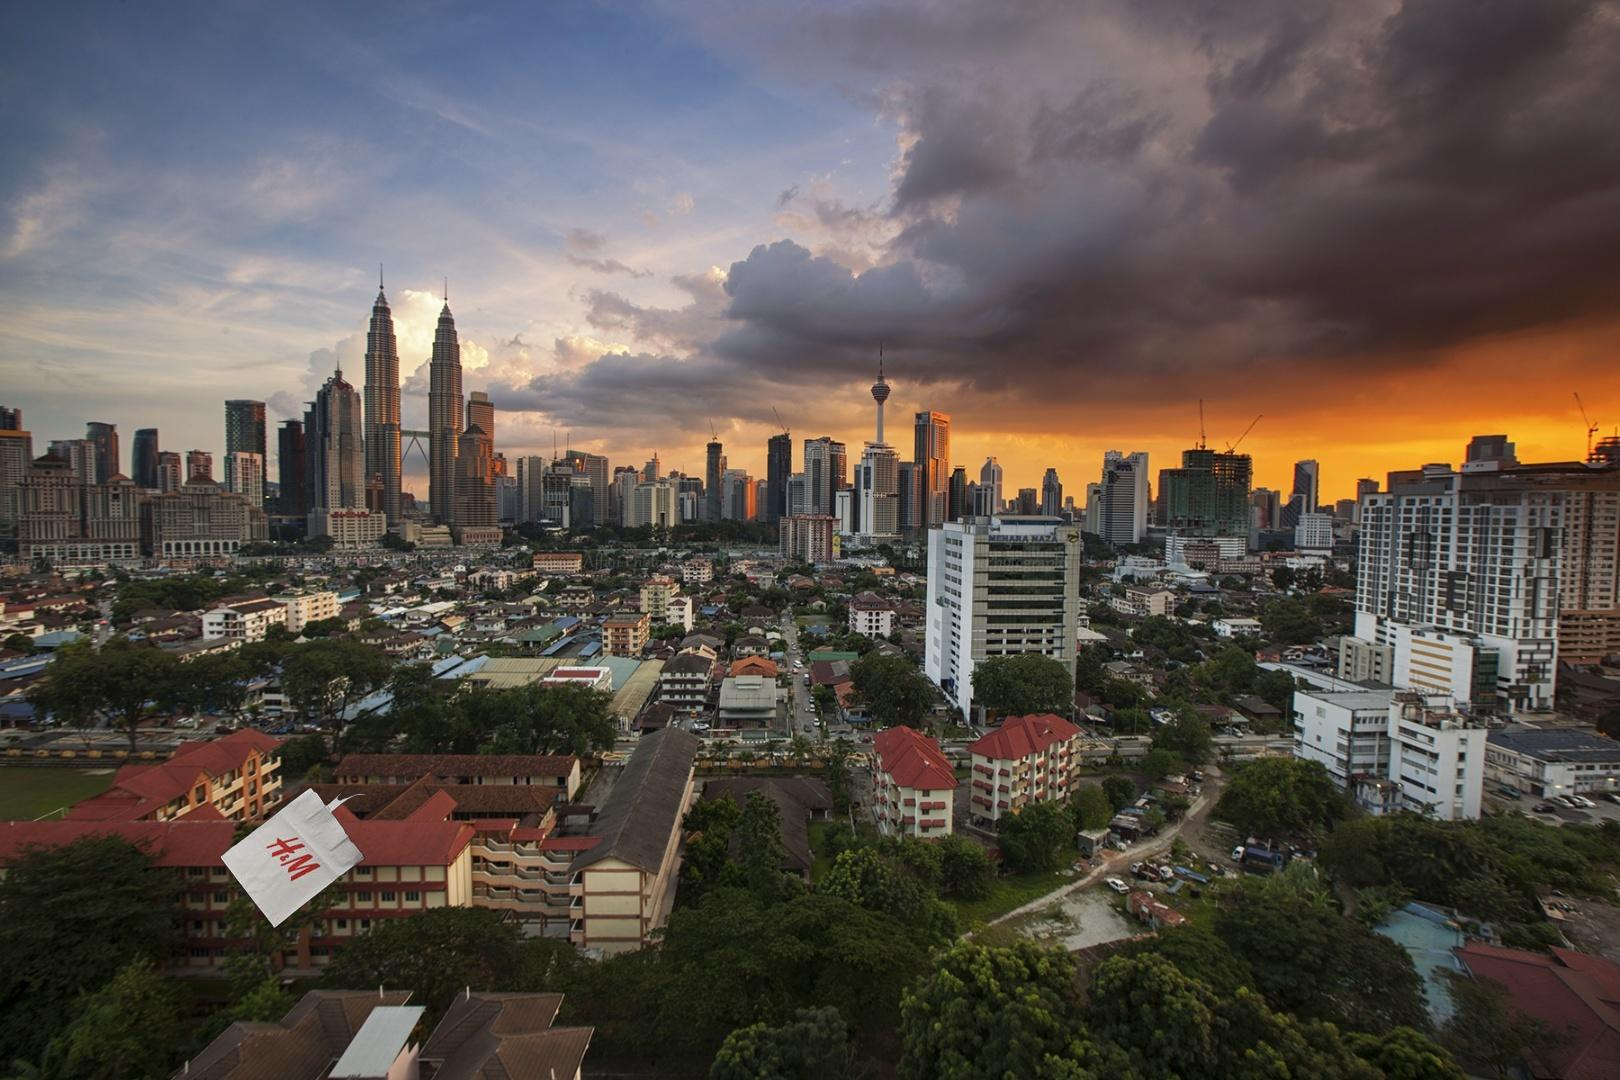paper-bag: (160, 645, 386, 929)
